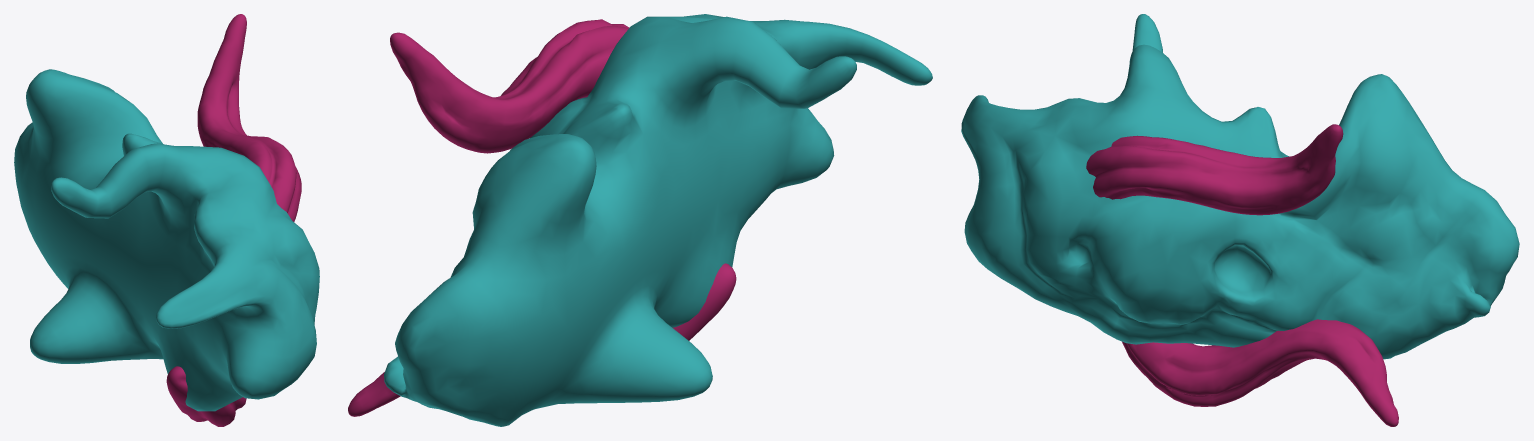
File: EnemyShip_B_alien.fbx
3 renders of one model, left to right at view 1: azimuth 30°, elevation 25°; view 2: azimuth 150°, elevation 25°; view 3: azimuth 270°, elevation 25°, orthographic. The views are drawn at different scales.
Visible parts, largest first — view 1: PM3D_Sphere3D3, PM3D_Sphere3D1_4, PM3D_Sphere3D1_3; view 2: PM3D_Sphere3D3, PM3D_Sphere3D1_4, PM3D_Sphere3D1_3; view 3: PM3D_Sphere3D3, PM3D_Sphere3D1_4, PM3D_Sphere3D1_3.
Boxes of the visible parts, x1,y1,x2,y2 form: PM3D_Sphere3D3: (14,69,319,411); PM3D_Sphere3D1_4: (197,14,301,221); PM3D_Sphere3D1_3: (166,366,246,426); PM3D_Sphere3D3: (384,14,932,426); PM3D_Sphere3D1_4: (390,19,629,153); PM3D_Sphere3D1_3: (348,263,736,416); PM3D_Sphere3D3: (961,14,1519,359); PM3D_Sphere3D1_4: (1086,124,1343,215); PM3D_Sphere3D1_3: (1122,319,1398,426).
Size of the model in its own units: 897 by 941 by 1474.
